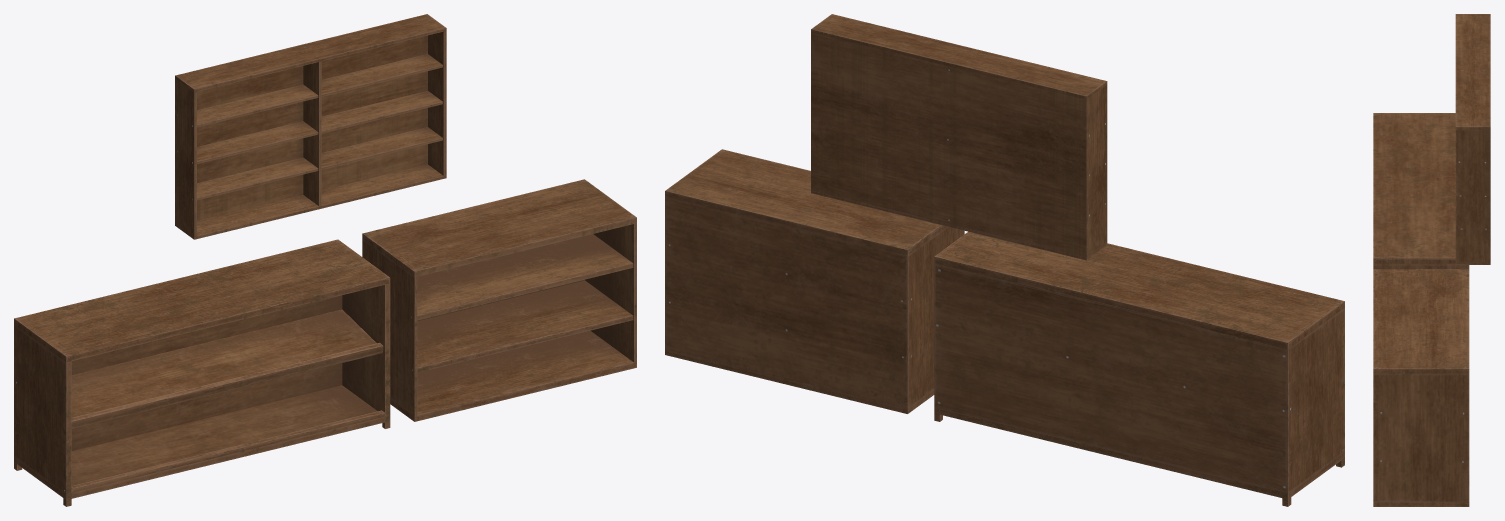
The model's file is game-ready_tables_and_shelf.fbx.
3 views of the same model, side by side, from view 1: azimuth 30°, elevation 25°; view 2: azimuth 150°, elevation 25°; view 3: azimuth 270°, elevation 25° (orthographic). The views are drawn at different scales.
Visible parts, largest first — view 1: Table-shelf001, Table_shelf001, Shelf003; view 2: Table-shelf001, Table_shelf001, Shelf003; view 3: Table_shelf001, Table-shelf001, Shelf003.
Boxes of the visible parts, x1=… form: Table-shelf001: x1=14, y1=239, x2=390, y2=506; Table_shelf001: x1=362, y1=179, x2=636, y2=421; Shelf003: x1=175, y1=14, x2=446, y2=239; Table-shelf001: x1=934, y1=231, x2=1344, y2=506; Table_shelf001: x1=665, y1=149, x2=964, y2=413; Shelf003: x1=811, y1=14, x2=1107, y2=260; Table_shelf001: x1=1373, y1=269, x2=1469, y2=506; Table-shelf001: x1=1373, y1=113, x2=1469, y2=269; Shelf003: x1=1455, y1=14, x2=1490, y2=264.
Bounding box in the file's own units: 4.5 × 2.58 × 0.8743.
3 materials, 3 textured.
